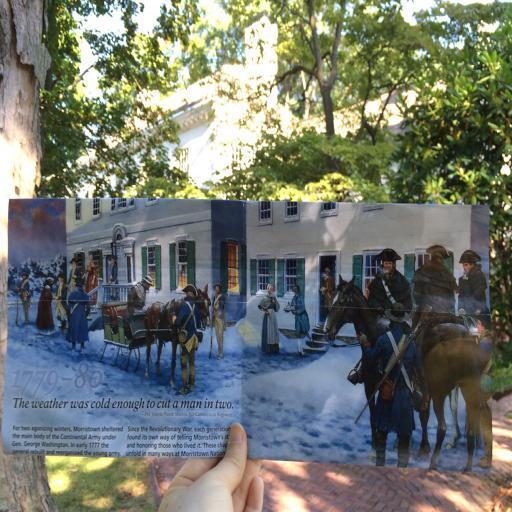horse: (324, 274, 413, 466), (416, 320, 480, 474), (144, 282, 210, 388)
